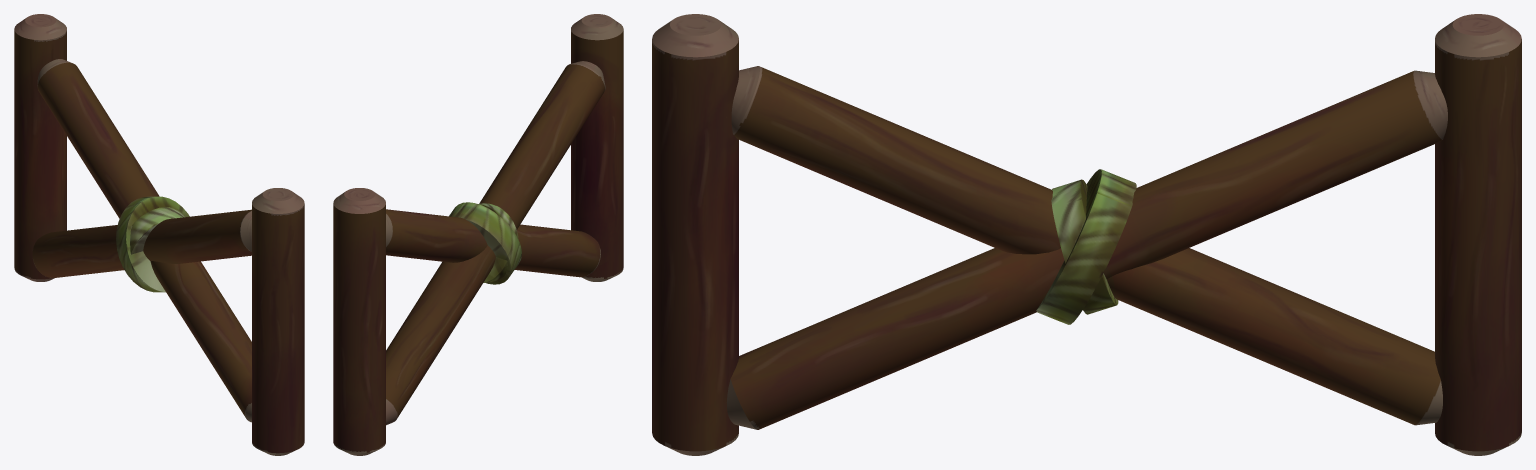
The model's file is Wall_Small_1.fbx.
3 views of the same model, side by side, from view 1: azimuth 30°, elevation 25°; view 2: azimuth 150°, elevation 25°; view 3: azimuth 270°, elevation 25° (orthographic). The views are drawn at different scales.
Visible parts, largest first — view 1: SmallWall1; view 2: SmallWall1; view 3: SmallWall1.
Part boxes in pixels (x1,y1,x2,y2): SmallWall1: [14, 14, 304, 455]; SmallWall1: [333, 14, 623, 455]; SmallWall1: [652, 14, 1521, 455].
Bounding box in the file's own units: 30.35 × 107 × 200.
Materials: 1 (1 with a texture image).
